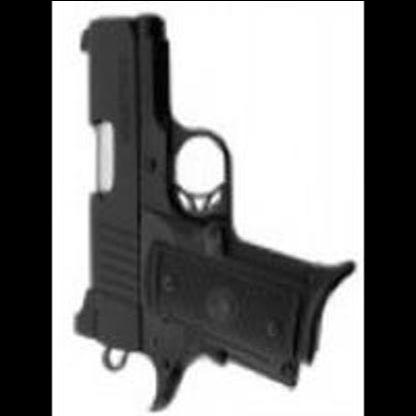weapon: (73, 14, 356, 412)
